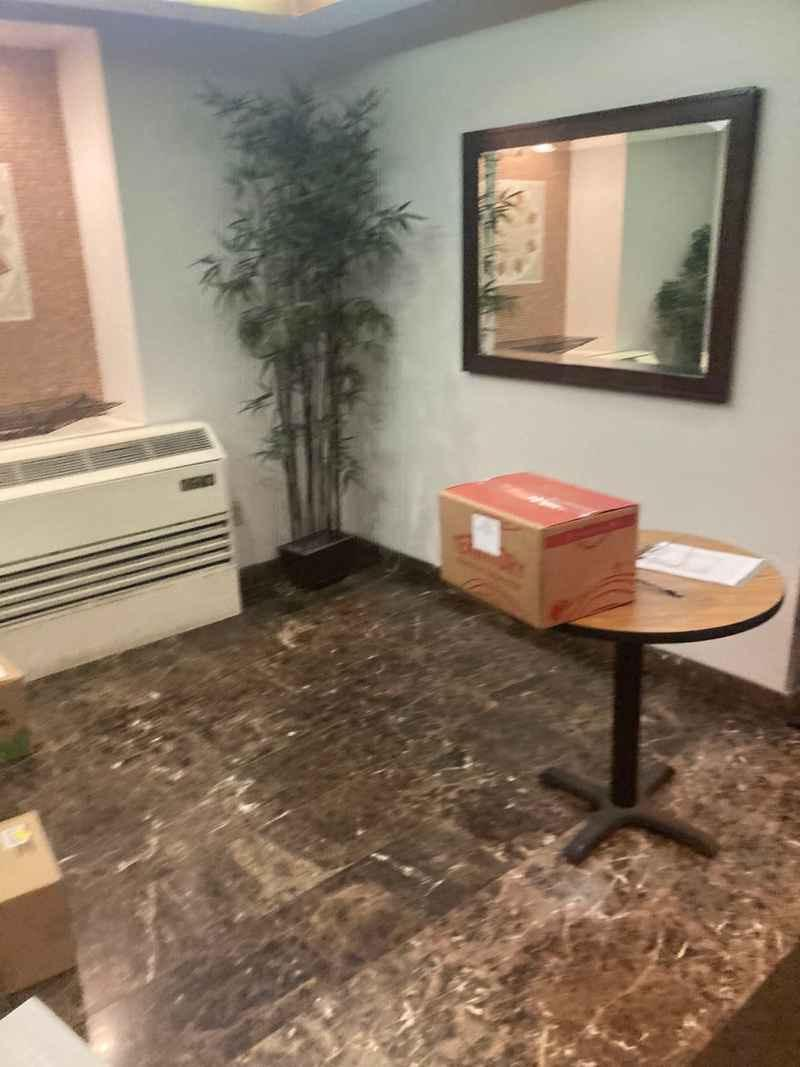package: (431, 467, 649, 624)
